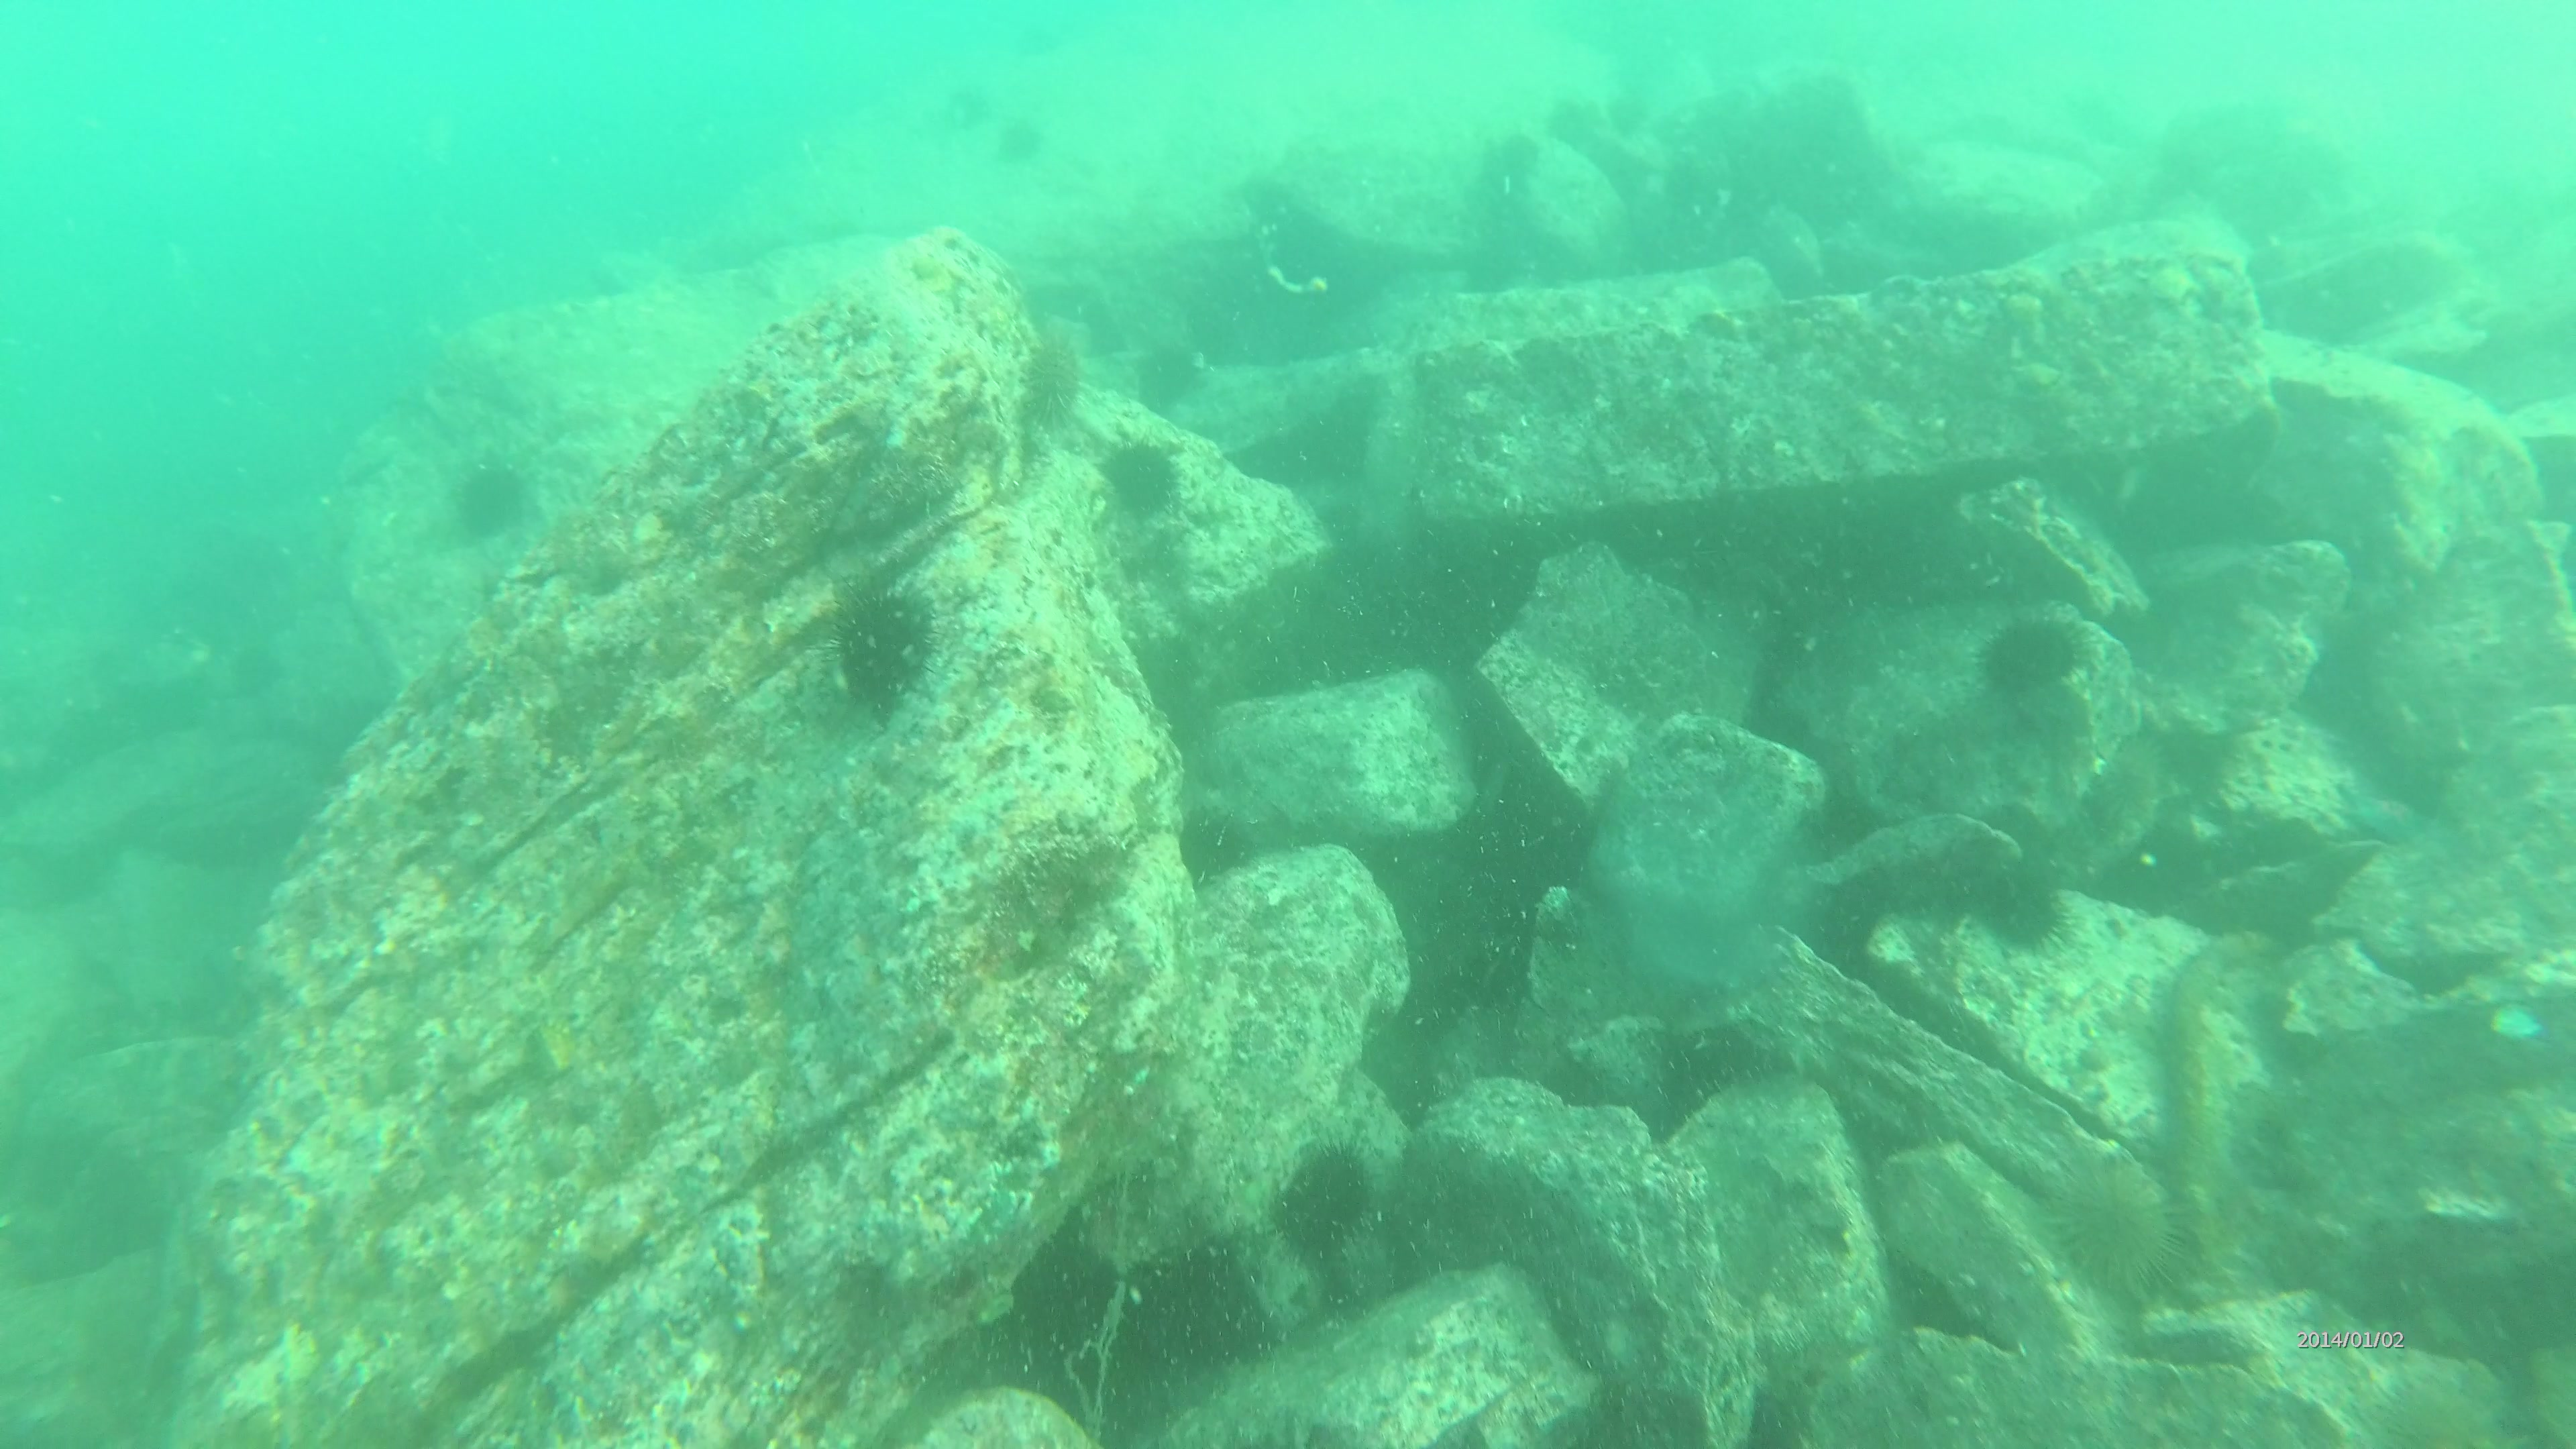echinus: (2045, 1150, 2196, 1313), (830, 573, 947, 713), (1270, 1131, 1385, 1267), (1976, 594, 2097, 702), (1976, 849, 2075, 961), (2160, 717, 2250, 809), (1021, 329, 1092, 444), (1102, 437, 1185, 513), (455, 460, 536, 536), (1177, 810, 1260, 883), (998, 110, 1053, 173), (943, 78, 989, 131)
